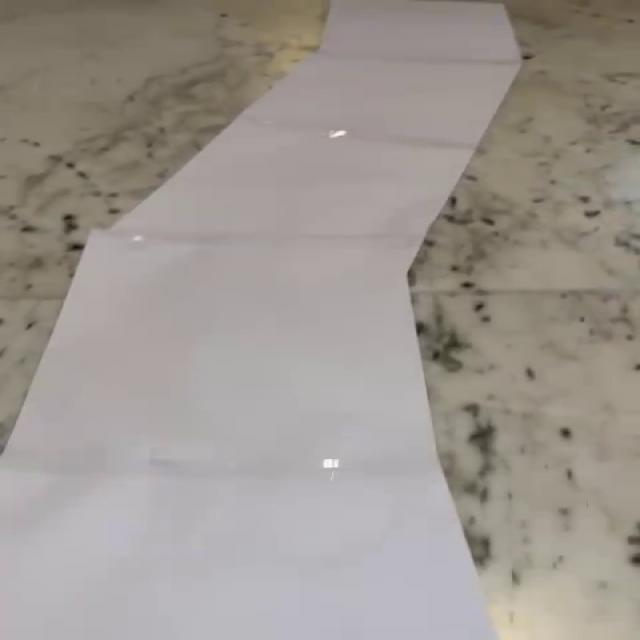road: (3, 0, 521, 640)
